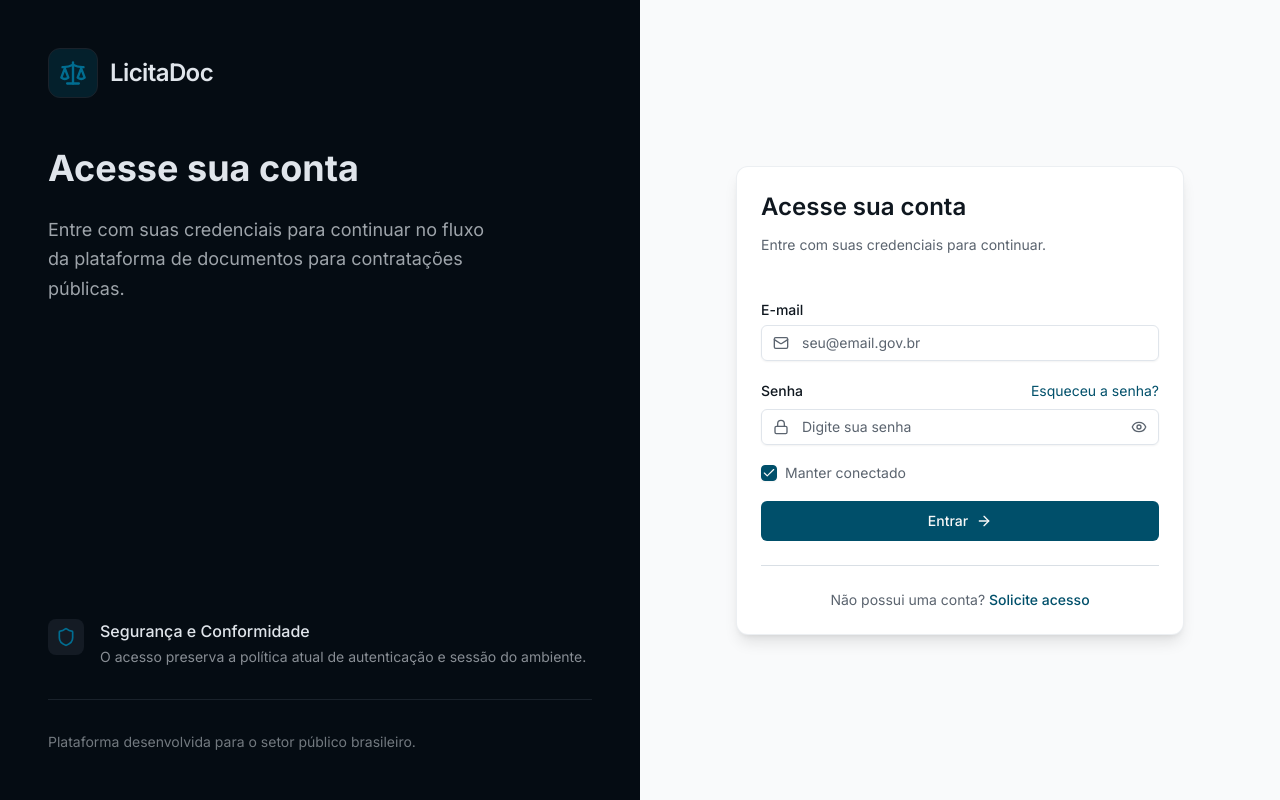
Scenario: SignInPage › shows an inline error when authentication fails
Type "maria@licitadoc.test" into the field labelled "E-mail". click: [960, 342]
box: [761, 324, 1159, 360]
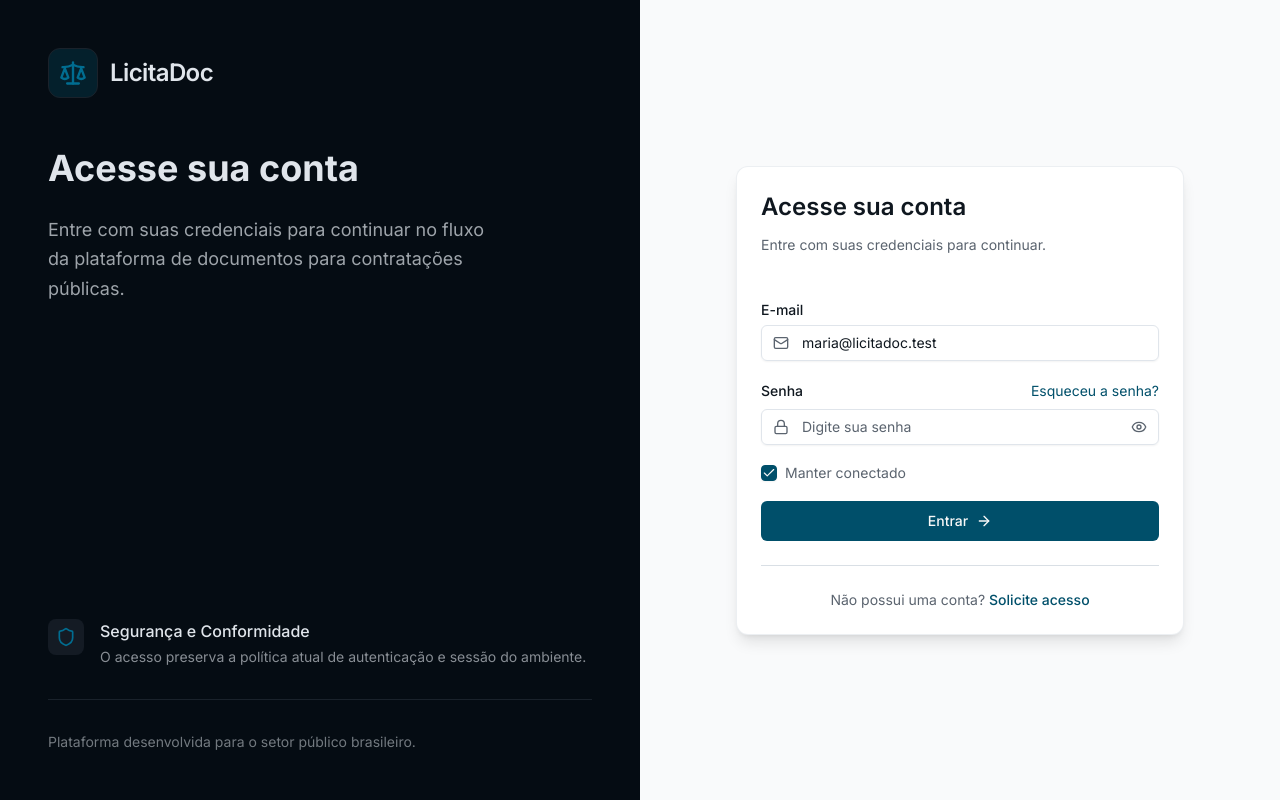
Type "senha-incorreta" into the password field labelled "Senha". click: [960, 426]
box: [761, 408, 1159, 444]
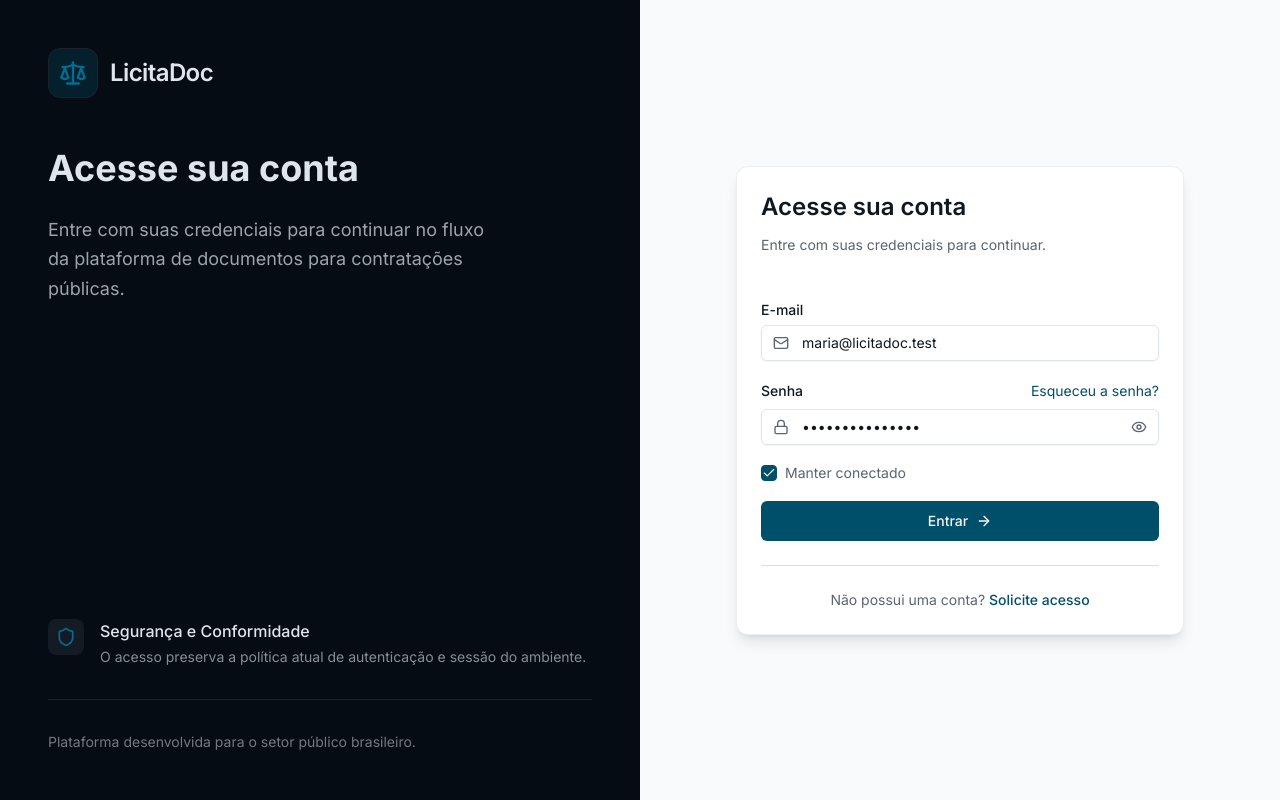
Click the button "Entrar". click: [960, 520]
box: [761, 500, 1159, 540]
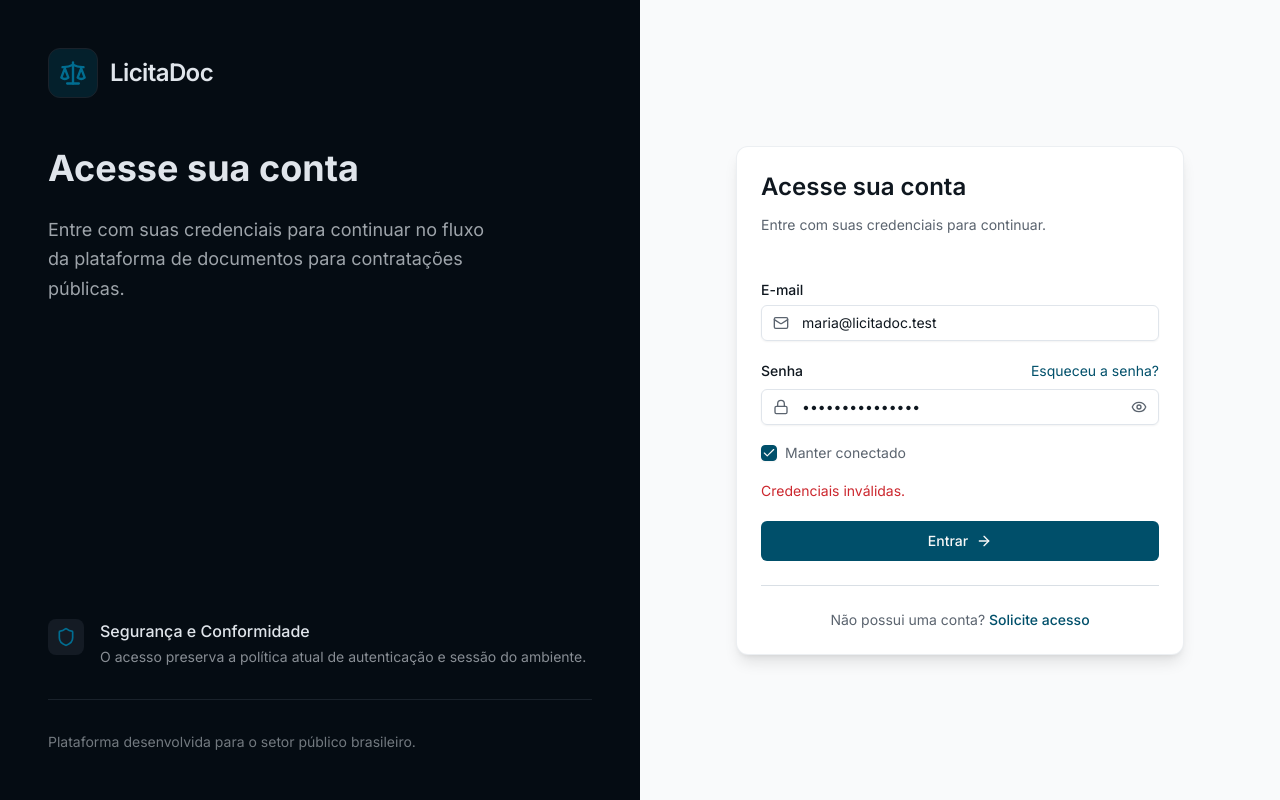
Check: the message reads "Credenciais inválidas.", box [761, 482, 905, 498]
